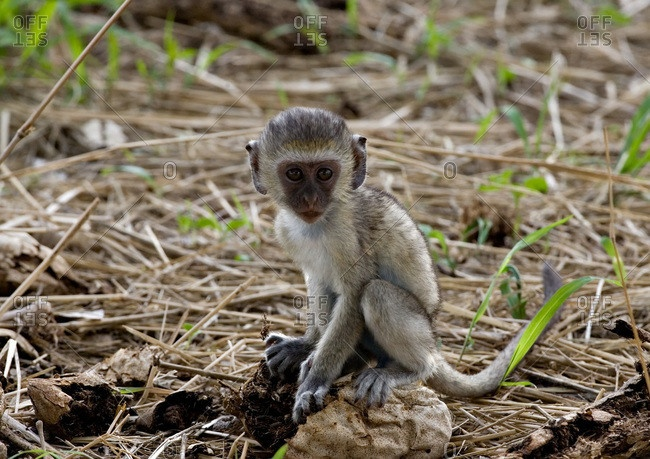monkey: (239, 101, 574, 425)
